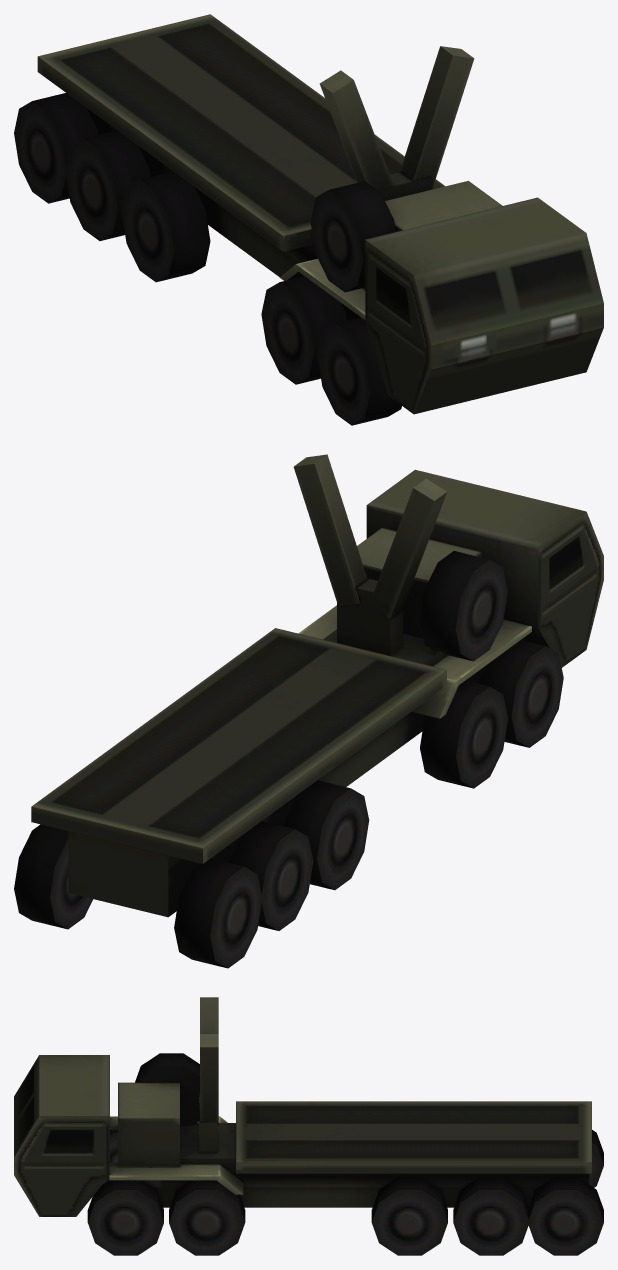
File: PLS_Transporter.DAE
The picture shows the model from 3 angles, top to bottom: view 1: azimuth 30°, elevation 25°; view 2: azimuth 150°, elevation 25°; view 3: azimuth 270°, elevation 25°; orthographic projection. The views are drawn at different scales.
Visible parts, largest first — view 1: _1146_PLS_Transporter; view 2: _1146_PLS_Transporter; view 3: _1146_PLS_Transporter.
Part boxes in pixels (x1,y1,x2,y2): _1146_PLS_Transporter: (14, 14, 603, 425); _1146_PLS_Transporter: (14, 454, 603, 968); _1146_PLS_Transporter: (14, 997, 603, 1255).
Bounding box in the file's own units: 69.67 × 97 × 249.
1 material, 1 textured.
